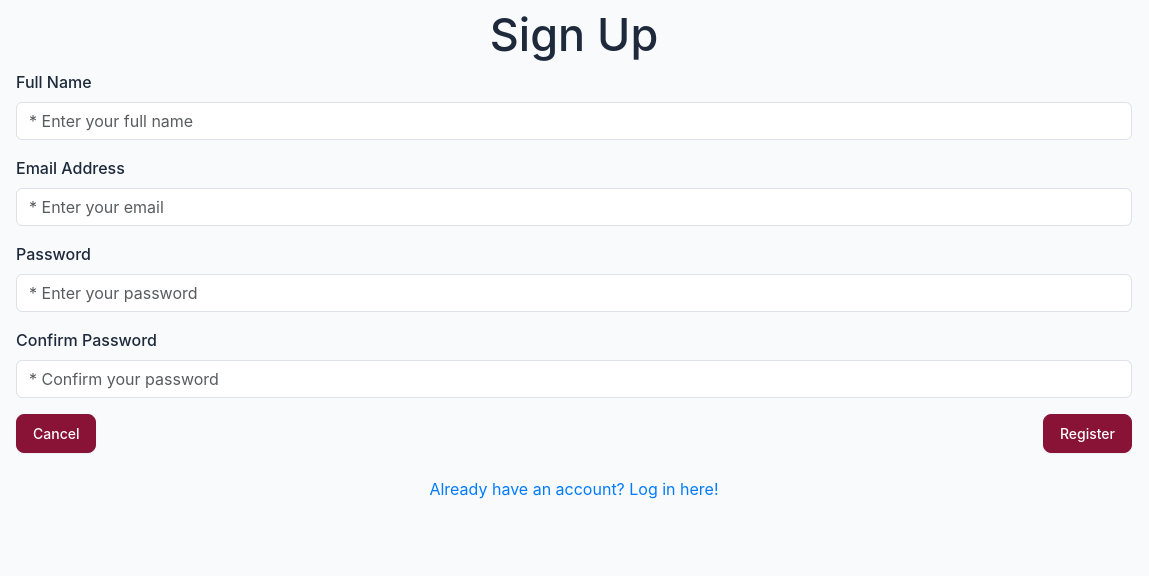
Test: SignupPage › displays error message when signup fails
Type "John Doe" into the field with placeholder "* Enter your full name". click: (574, 121)
box: top-left (16, 102), bottom-right (1132, 140)
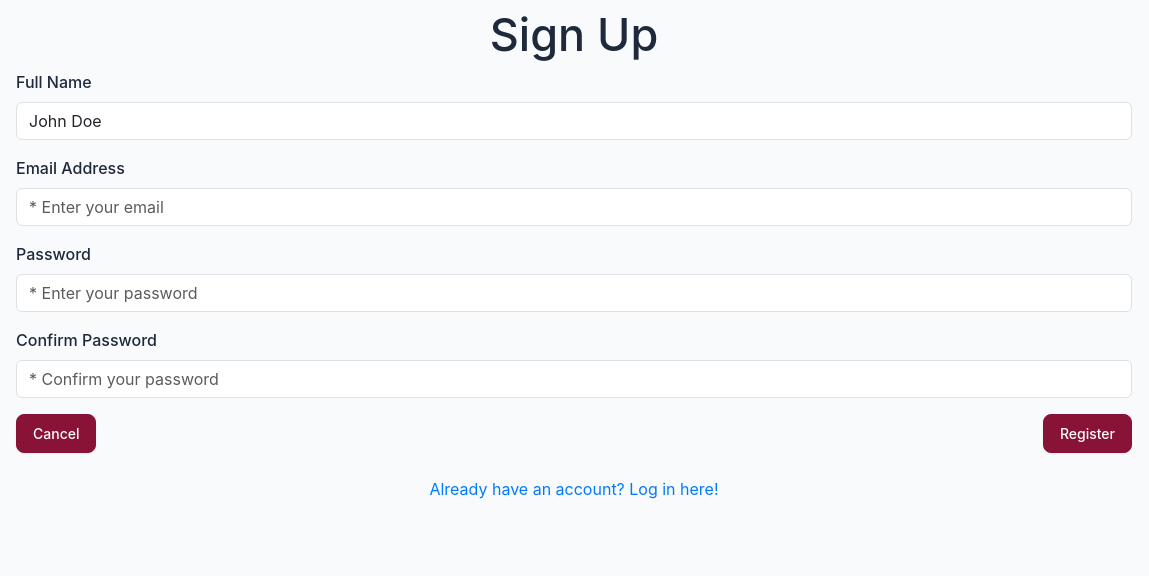
Type "john@example.com" into the field with placeholder "* Enter your email". click: (574, 207)
box: top-left (16, 188), bottom-right (1132, 226)
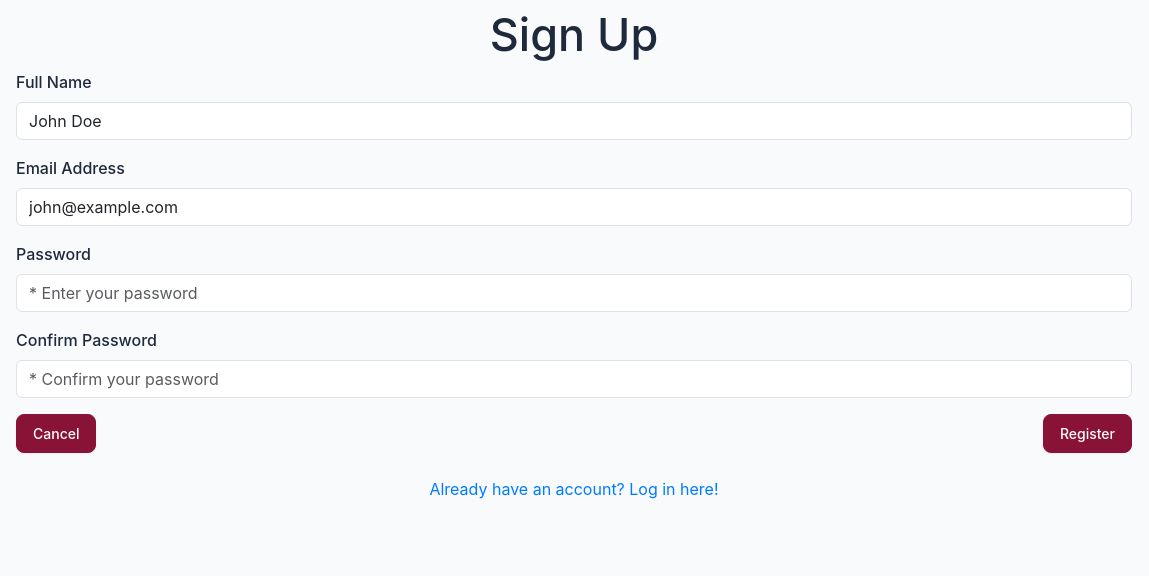
Type "password123" into the password field with placeholder "* Enter your password". click: (574, 293)
box: top-left (16, 274), bottom-right (1132, 312)
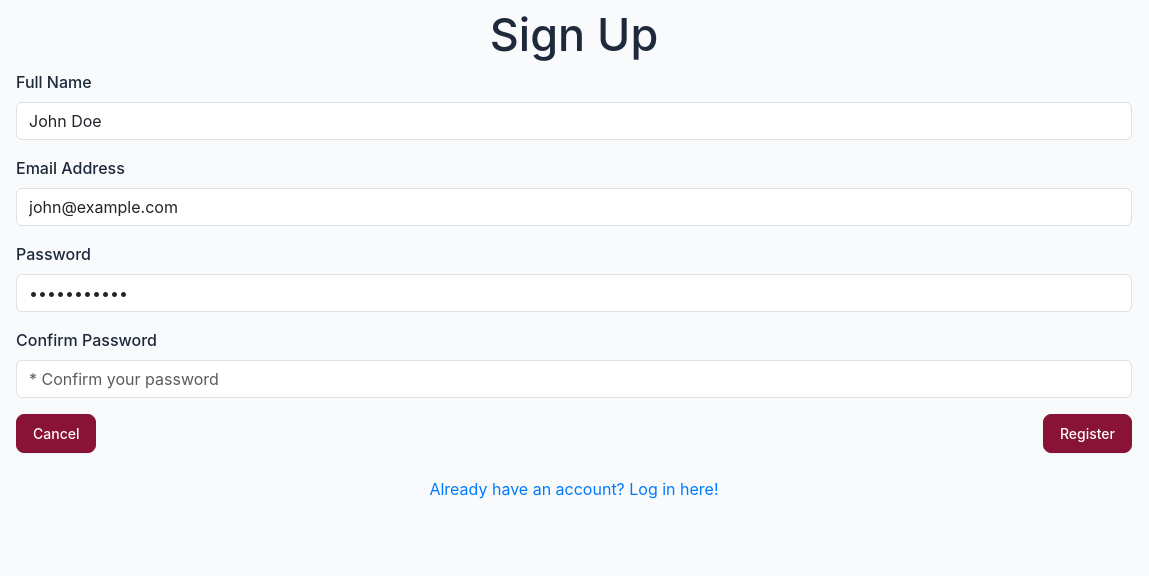
Type "password123" into the password field with placeholder "* Confirm your password". click: (574, 379)
box: top-left (16, 360), bottom-right (1132, 398)
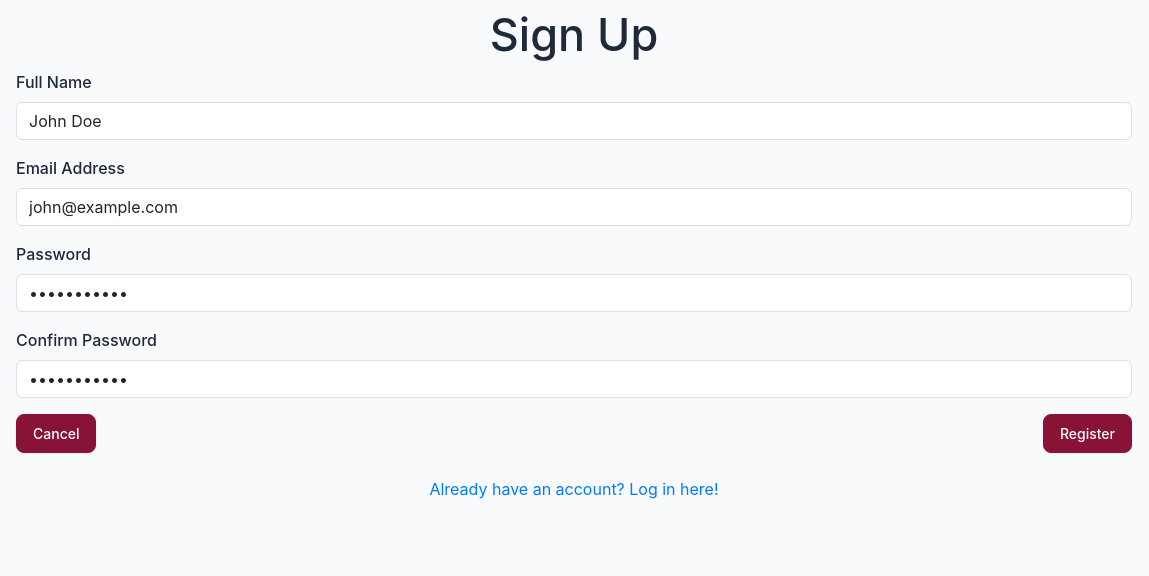
Click the button "Register". click: click(1087, 434)
box: top-left (1043, 414), bottom-right (1132, 453)
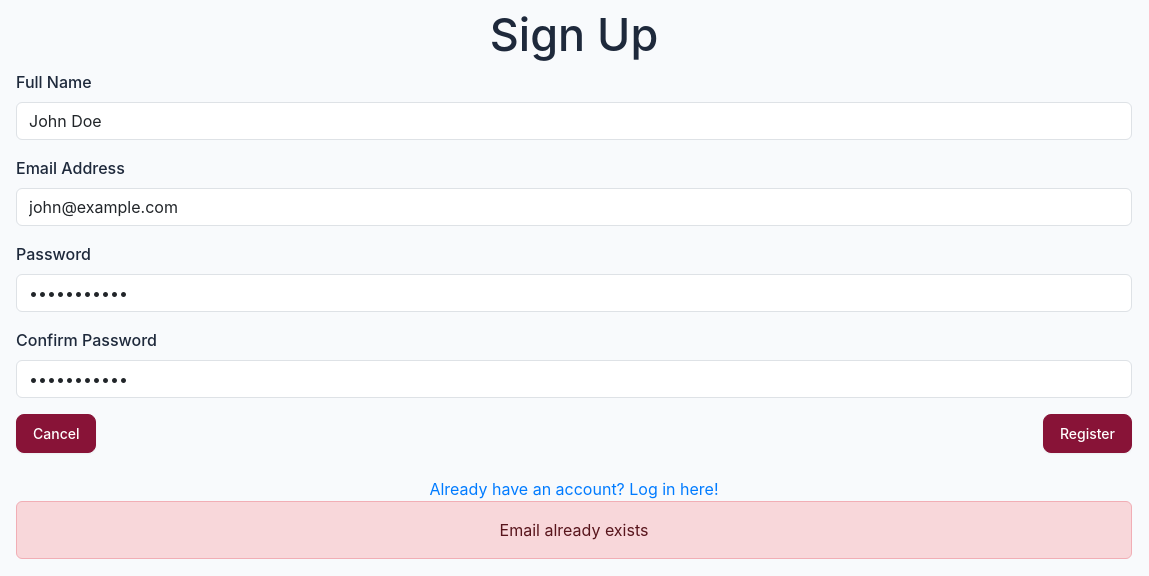
Expected: the text "Email already exists" is shown, top-left (16, 501), bottom-right (1132, 559)
